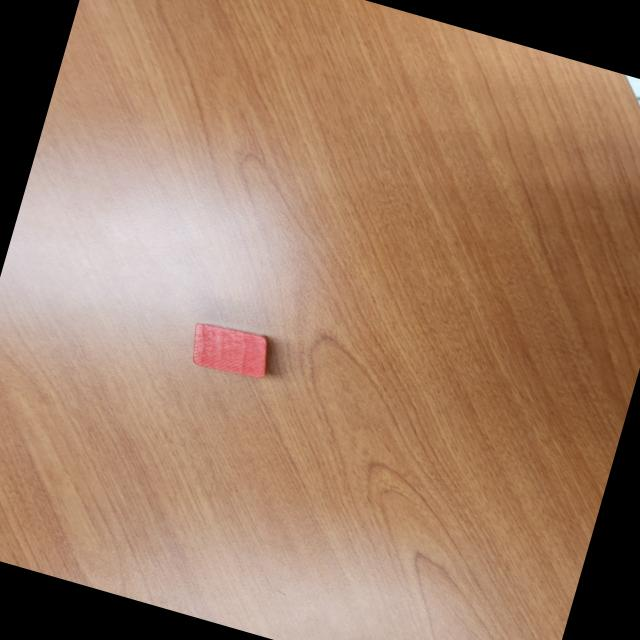red: (183, 314, 279, 386)
